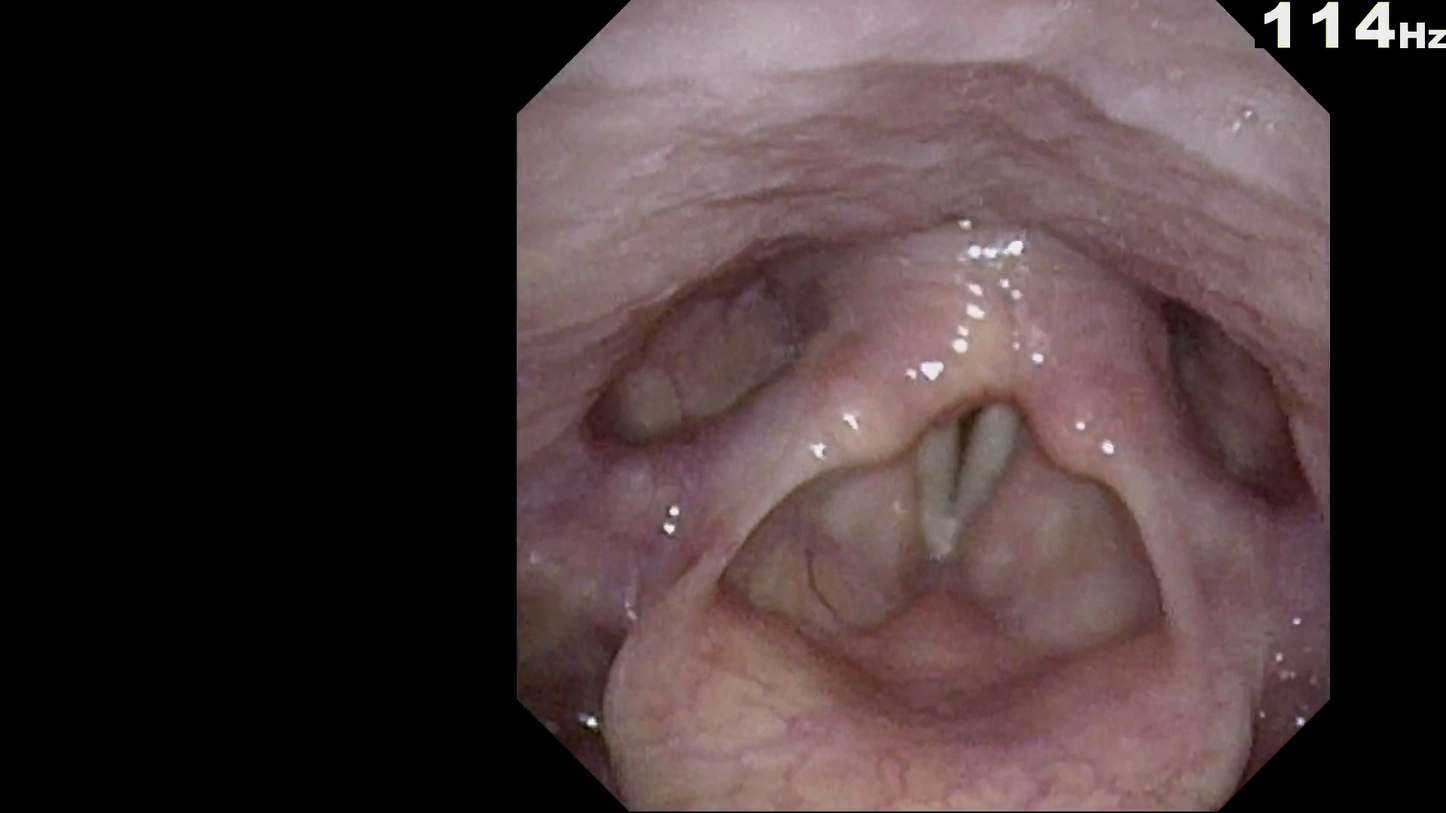epiglottis: (587, 503, 1264, 752)
trachea: (870, 353, 1049, 578)
